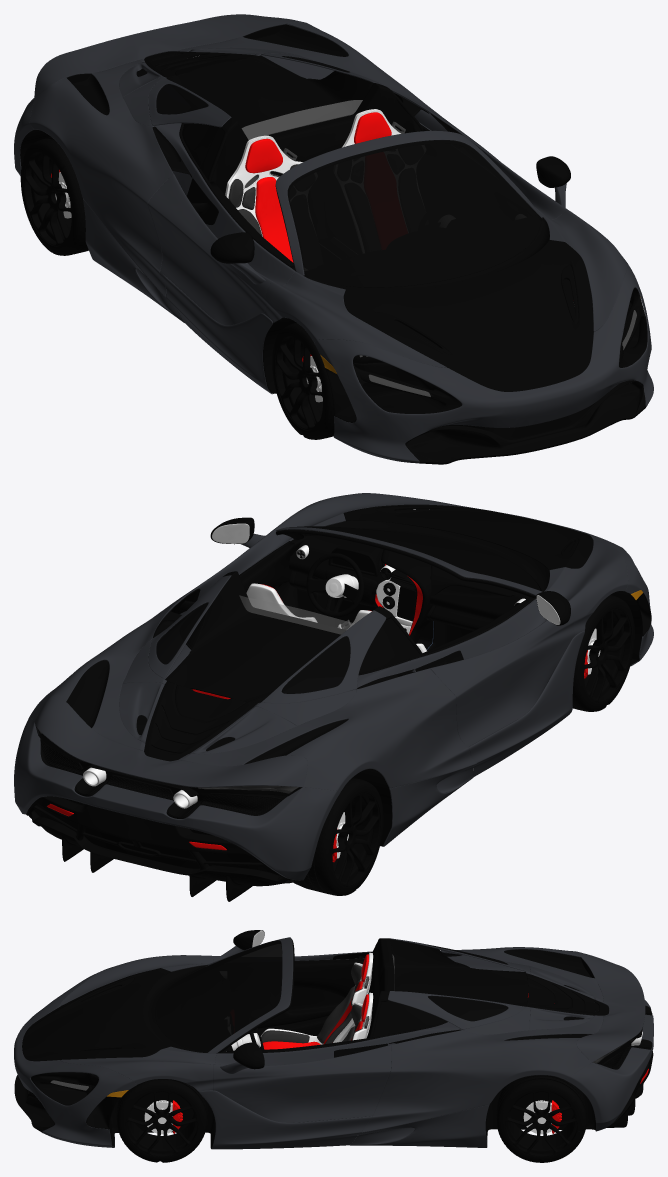
File: car.glb
The picture shows the model from 3 angles, top to bottom: view 1: azimuth 30°, elevation 25°; view 2: azimuth 150°, elevation 25°; view 3: azimuth 270°, elevation 25°; orthographic projection. The views are drawn at different scales.
Size of the model in its own units: 2.43 by 1.28 by 5.05.
